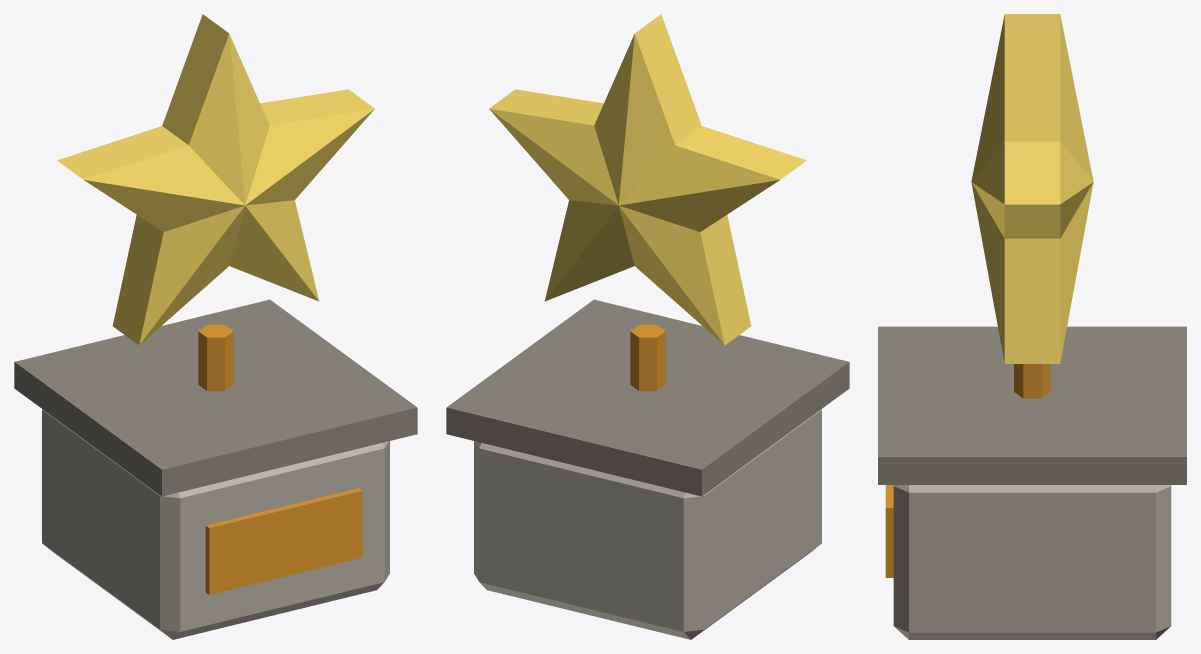
File: prop_star_statue.glb
3 renders of one model, left to right at view 1: azimuth 30°, elevation 25°; view 2: azimuth 150°, elevation 25°; view 3: azimuth 270°, elevation 25°, orthographic. The views are drawn at different scales.
Visible parts, largest first — view 1: prop_star_statue; view 2: prop_star_statue; view 3: prop_star_statue.
Boxes of the visible parts, x1,y1,x2,y2 form: prop_star_statue: [14, 14, 417, 639]; prop_star_statue: [446, 14, 849, 639]; prop_star_statue: [878, 14, 1186, 639].
Size of the model in its own units: 1.14 by 2.05 by 1.
